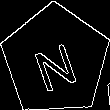N_N: (29, 29, 82, 91)
